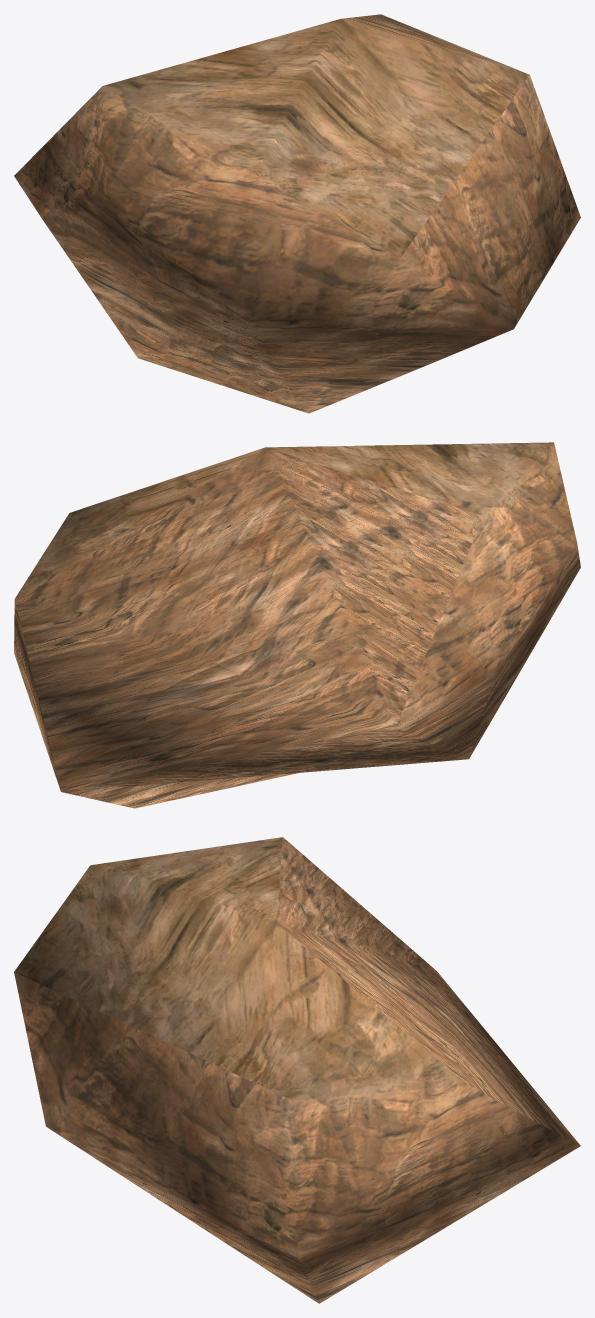
The model's file is rock_tatt_bensmesa_boulder_a4_l3.fbx.
3 views of the same model, one above another, from view 1: azimuth 30°, elevation 25°; view 2: azimuth 150°, elevation 25°; view 3: azimuth 270°, elevation 25° (orthographic). The views are drawn at different scales.
Visible parts, largest first — view 1: mesh_node; view 2: mesh_node; view 3: mesh_node.
Boxes of the visible parts, x1,y1,x2,y2 form: mesh_node: [14, 14, 580, 413]; mesh_node: [14, 442, 580, 808]; mesh_node: [14, 837, 580, 1303].
Size of the model in its own units: 4.2 by 2.94 by 4.53.
